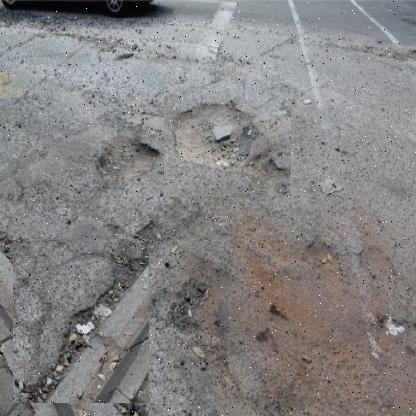damage: (12, 239, 149, 404), (163, 84, 291, 198), (81, 118, 174, 193)
